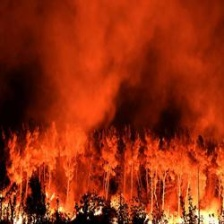fire: (1, 111, 224, 185), (1, 192, 222, 224)
smoke: (43, 1, 191, 103)
